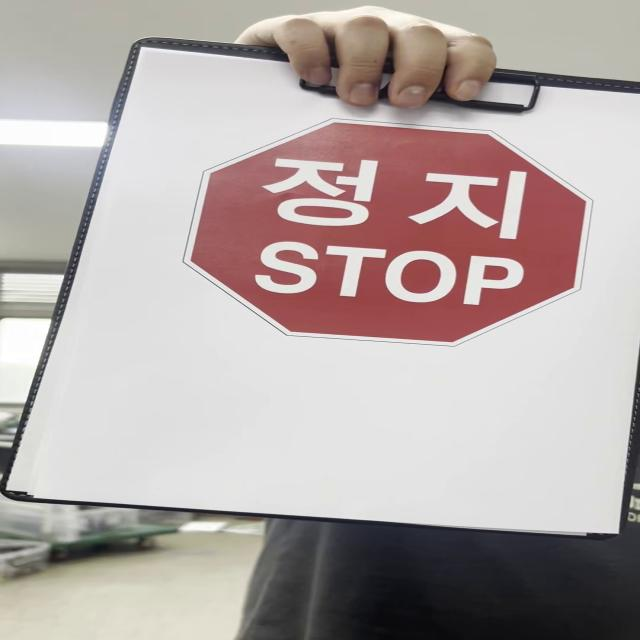stop: (192, 121, 588, 348)
